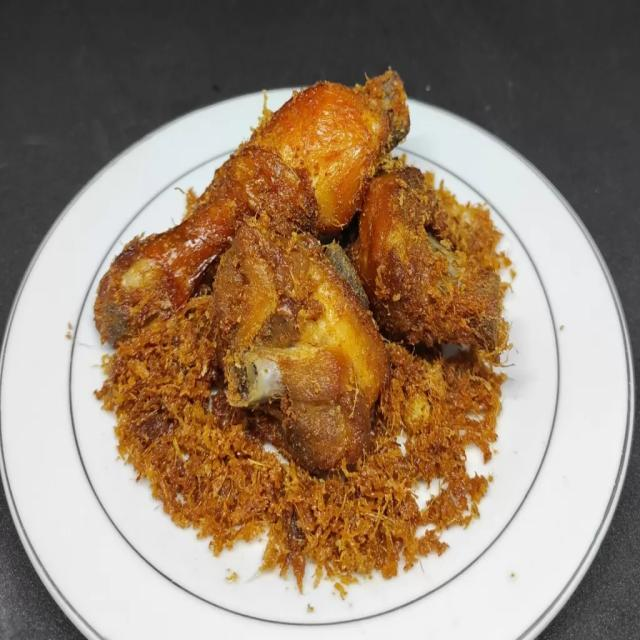ayam_goreng: (77, 68, 540, 580)
